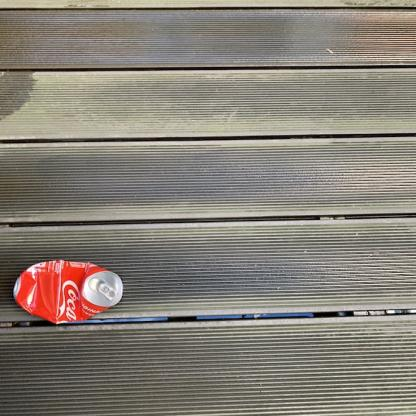trash: (11, 261, 124, 324)
